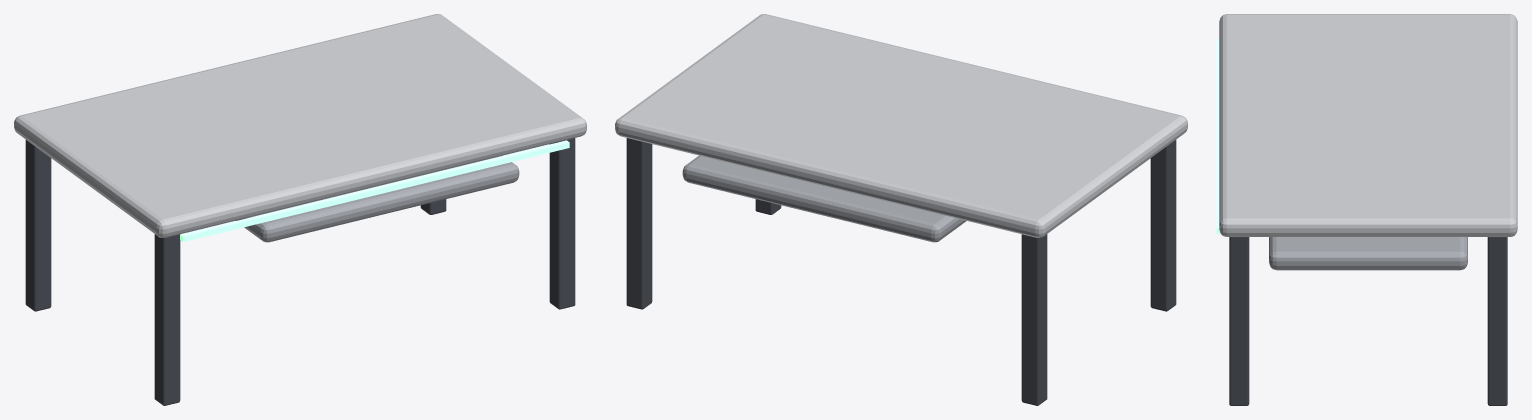
Rendered from coffee_table_nested.glb.
The picture shows the model from 3 angles, left to right: view 1: azimuth 30°, elevation 25°; view 2: azimuth 150°, elevation 25°; view 3: azimuth 270°, elevation 25°; orthographic projection.
Visible parts, largest first — view 1: GD_coffee_table_nested__m0, GD_coffee_table_nested__m2, GD_coffee_table_nested__m1, GD_coffee_table_nested__m3; view 2: GD_coffee_table_nested__m0, GD_coffee_table_nested__m2, GD_coffee_table_nested__m1; view 3: GD_coffee_table_nested__m0, GD_coffee_table_nested__m2, GD_coffee_table_nested__m1, GD_coffee_table_nested__m3.
Part boxes in pixels (x1,y1,x2,y2): GD_coffee_table_nested__m0: (14, 14, 586, 237); GD_coffee_table_nested__m2: (25, 138, 575, 405); GD_coffee_table_nested__m1: (235, 155, 519, 242); GD_coffee_table_nested__m3: (180, 140, 569, 241); GD_coffee_table_nested__m0: (615, 14, 1187, 237); GD_coffee_table_nested__m2: (626, 138, 1176, 405); GD_coffee_table_nested__m1: (682, 155, 966, 242); GD_coffee_table_nested__m0: (1219, 14, 1517, 236); GD_coffee_table_nested__m2: (1229, 237, 1507, 405); GD_coffee_table_nested__m1: (1269, 237, 1467, 270); GD_coffee_table_nested__m3: (1216, 39, 1220, 233).
Bounding box in the file's own units: 1 × 0.42 × 0.606.
